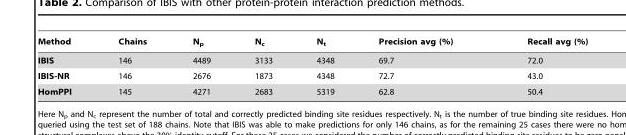table: (37, 36, 587, 95)
table column: (355, 36, 489, 95), (489, 36, 587, 95), (94, 36, 169, 95), (169, 36, 231, 95), (231, 36, 293, 95), (293, 36, 355, 95), (37, 36, 94, 95)
table column header: (37, 36, 587, 51)
table row: (37, 51, 587, 67), (37, 67, 587, 83), (37, 36, 587, 51), (37, 83, 587, 95)
